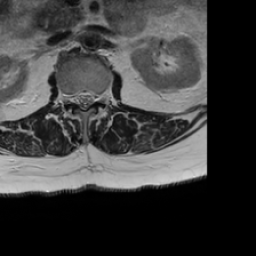CCS_normal: (80, 81, 88, 117)
LFS_normal: (96, 81, 104, 109)
LLS_normal: (88, 81, 96, 111)
RFS_normal: (65, 82, 72, 110)
RLS_normal: (72, 81, 80, 111)
